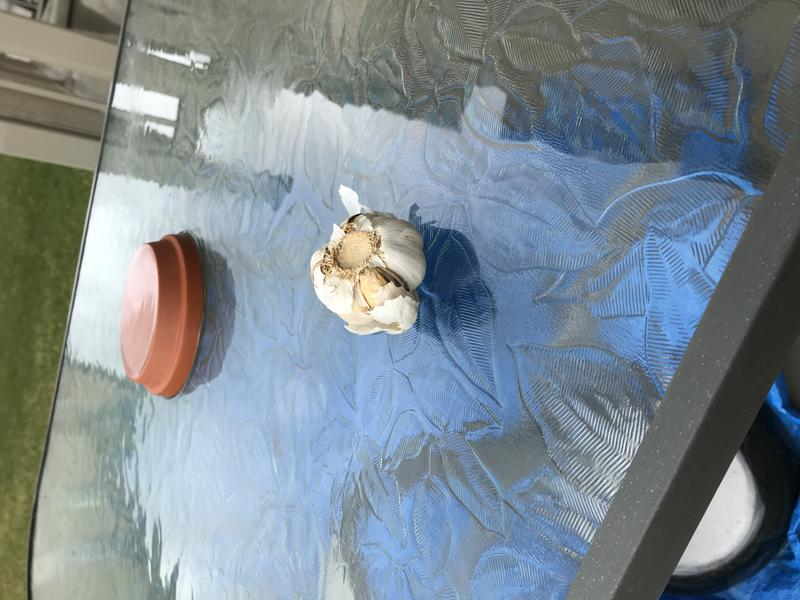garlic: (304, 202, 431, 338)
